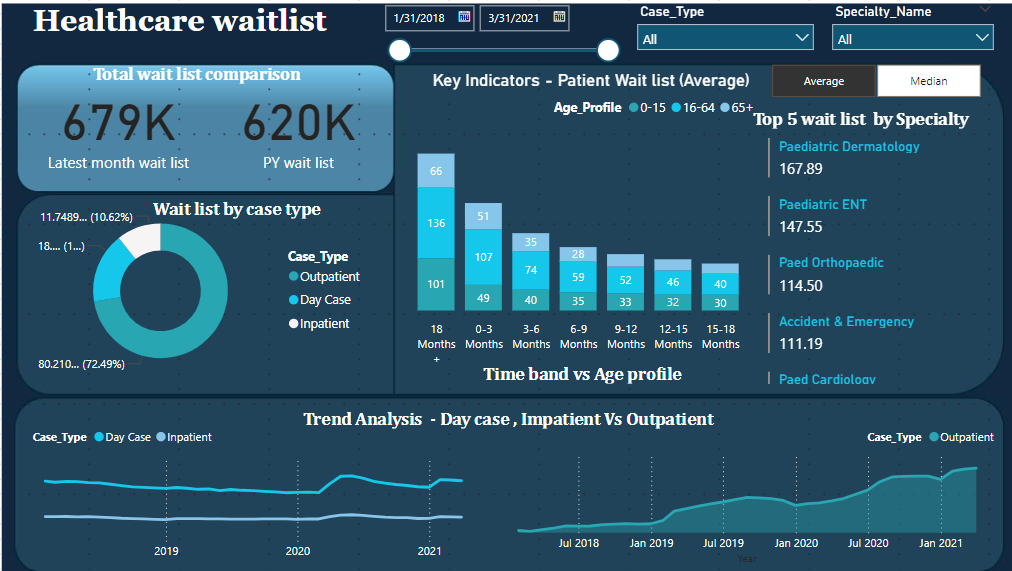

What the dashboard file says about the page in this screenshot:
{"tool":"powerbi","page":{"name":"Summary","canvas":[1280,720],"ordinal":0},"visuals":[{"type":"card","fields":{"Values":["All_data.Latest month wait list"]},"box":[112,128,224,112],"z":0},{"type":"card","fields":{"Values":["All_data.PY wait list"]},"box":[336,128,160,112],"z":1000},{"type":"slicer","fields":{"Values":["Calculation Method. Cal Method"]},"box":[896,112,272,48],"z":2000},{"type":"donutChart","fields":{"Category":["All_data.Case_Type"],"Y":["All_data.Avg/Med wait list"]},"box":[128,256,368,208],"z":3000},{"type":"columnChart","fields":{"Y":["All_data.Avg/Med wait list"],"Series":["All_data.Age_Profile"],"Category":["All_data.Time_Bands"]},"box":[512,144,400,304],"z":4000},{"type":"multiRowCard","fields":{"Values":["All_data.Avg/Med wait list","All_data.Specialty_Name"]},"box":[912,192,288,272],"z":5000},{"type":"lineChart","fields":{"Y":["Sum(All_data.Total)"],"Series":["All_data.Case_Type"],"Category":["All_data.Date.Variation.Date Hierarchy.Year","All_data.Date.Variation.Date Hierarchy.Quarter","All_data.Date.Variation.Date Hierarchy.Month","All_data.Date.Variation.Date Hierarchy.Day"]},"box":[128,496,480,160],"z":6000},{"type":"lineChart","fields":{"Y":["Sum(All_data.Total)"],"Series":["All_data.Case_Type"],"Category":["All_data.Date.Variation.Date Hierarchy.Year","All_data.Date.Variation.Date Hierarchy.Quarter","All_data.Date.Variation.Date Hierarchy.Month","All_data.Date.Variation.Date Hierarchy.Day"]},"box":[624,496,544,160],"z":7000},{"type":"slicer","fields":{"Values":["All_data.Specialty_Name"]},"box":[976,48,192,64],"z":8000},{"type":"slicer","fields":{"Values":["All_data.Date"]},"box":[496,32,272,96],"z":9000},{"type":"textbox","box":[128,48,368,64],"z":10000},{"type":"textbox","box":[608,432,288,32],"z":11000},{"type":"textbox","box":[192,112,240,32],"z":12000},{"type":"textbox","box":[416,480,496,32],"z":13000},{"type":"card","fields":{"Values":["All_data.Dynamic Title"]},"box":[544,112,368,48],"z":14000},{"type":"textbox","box":[896,160,272,32],"z":15000},{"type":"slicer","fields":{"Values":["All_data.Case_Type"]},"box":[768,48,208,64],"z":16000},{"type":"textbox","box":[256,256,208,32],"z":17000}]}

Visuals, with their boxes in screenshot pixels (x1, y1, x2, y2), scaled from the page's 1280x720 canvas onto the 1012x571 screenshot:
card - All_data.Latest month wait list: {"x1": 89, "y1": 102, "x2": 266, "y2": 190}
card - All_data.PY wait list: {"x1": 266, "y1": 102, "x2": 392, "y2": 190}
slicer - Calculation Method. Cal Method: {"x1": 708, "y1": 89, "x2": 923, "y2": 127}
donutChart - All_data.Case_Type x All_data.Avg/Med wait list: {"x1": 101, "y1": 203, "x2": 392, "y2": 368}
columnChart - All_data.Avg/Med wait list x All_data.Age_Profile: {"x1": 405, "y1": 114, "x2": 721, "y2": 355}
multiRowCard - All_data.Avg/Med wait list x All_data.Specialty_Name: {"x1": 721, "y1": 152, "x2": 949, "y2": 368}
lineChart - Sum(All_data.Total) x All_data.Case_Type: {"x1": 101, "y1": 393, "x2": 481, "y2": 520}
lineChart - Sum(All_data.Total) x All_data.Case_Type: {"x1": 493, "y1": 393, "x2": 923, "y2": 520}
slicer - All_data.Specialty_Name: {"x1": 772, "y1": 38, "x2": 923, "y2": 89}
slicer - All_data.Date: {"x1": 392, "y1": 25, "x2": 607, "y2": 102}
textbox: {"x1": 101, "y1": 38, "x2": 392, "y2": 89}
textbox: {"x1": 481, "y1": 343, "x2": 708, "y2": 368}
textbox: {"x1": 152, "y1": 89, "x2": 342, "y2": 114}
textbox: {"x1": 329, "y1": 381, "x2": 721, "y2": 406}
card - All_data.Dynamic Title: {"x1": 430, "y1": 89, "x2": 721, "y2": 127}
textbox: {"x1": 708, "y1": 127, "x2": 923, "y2": 152}
slicer - All_data.Case_Type: {"x1": 607, "y1": 38, "x2": 772, "y2": 89}
textbox: {"x1": 202, "y1": 203, "x2": 367, "y2": 228}
